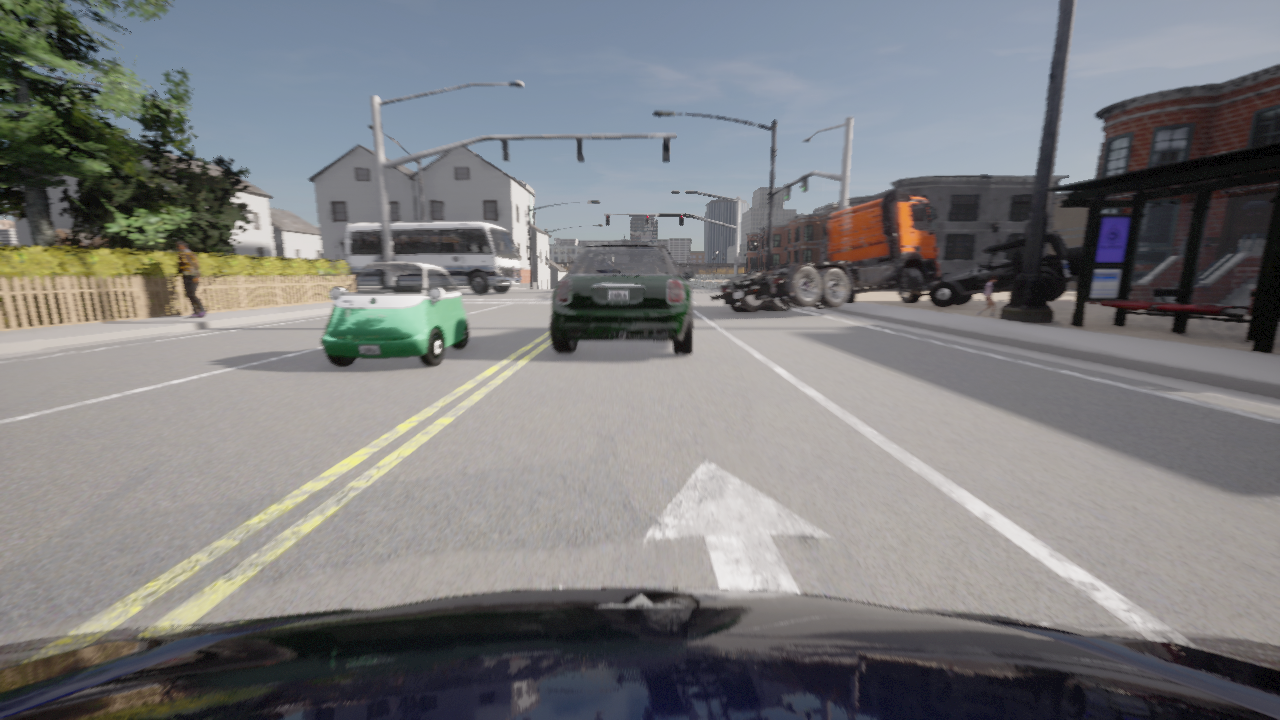cyclist: (0, 588, 1279, 719), (710, 189, 940, 313), (550, 235, 694, 354), (321, 262, 468, 366), (345, 221, 520, 294), (922, 233, 1082, 307)
pedestrian: (174, 241, 206, 317), (976, 275, 996, 316)
